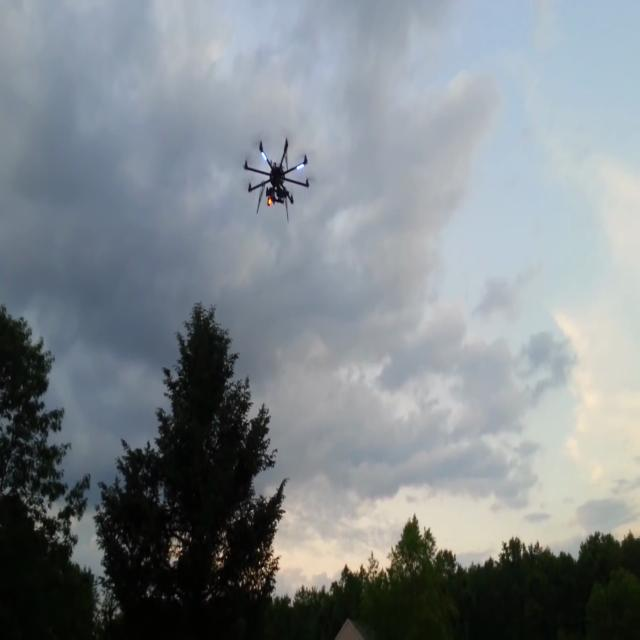drone: (236, 118, 310, 224)
